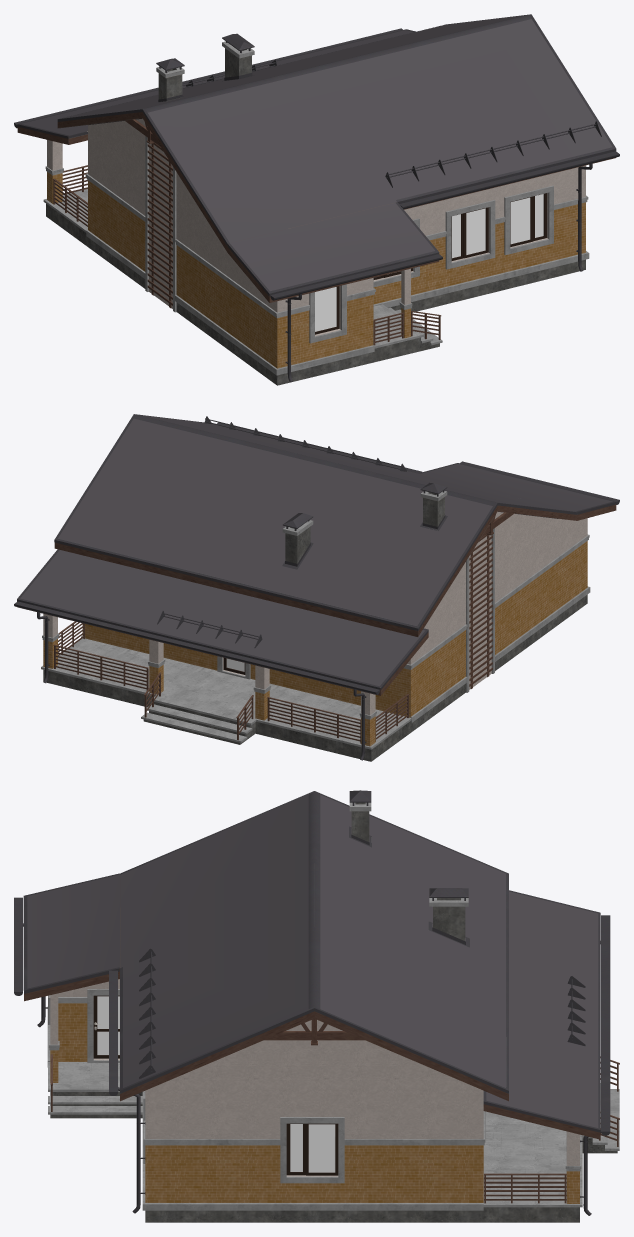
Rendered from Cottage_Clean.gltf.
The picture shows the model from 3 angles, top to bottom: view 1: azimuth 30°, elevation 25°; view 2: azimuth 150°, elevation 25°; view 3: azimuth 270°, elevation 25°; orthographic projection. The views are drawn at different scales.
Parts seen in each view (by area): view 1: Cottage_Clean; view 2: Cottage_Clean; view 3: Cottage_Clean.
Part boxes in pixels (bbox=[...]): Cottage_Clean: bbox=[14, 14, 619, 385]; Cottage_Clean: bbox=[14, 414, 619, 761]; Cottage_Clean: bbox=[14, 790, 619, 1222].
Size of the model in its own units: 12.44 by 6.75 by 14.65.
1 material, 1 textured.
